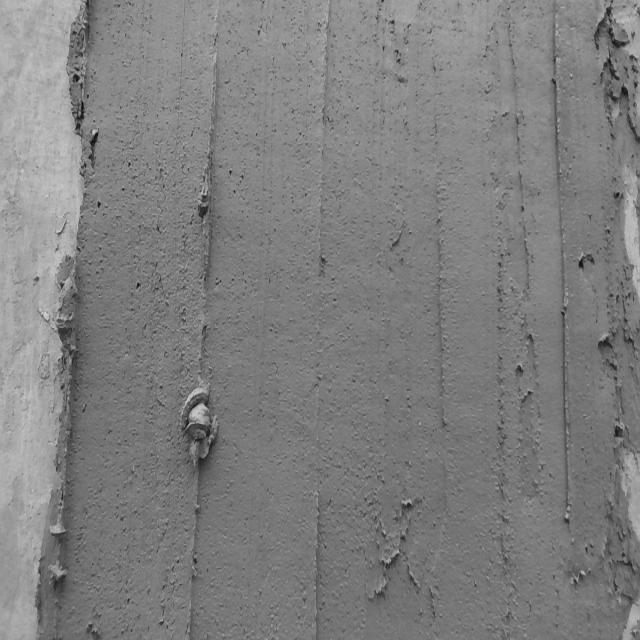trowels marks: (177, 20, 225, 640), (479, 10, 516, 640), (544, 12, 584, 554), (507, 4, 548, 505), (426, 41, 454, 640), (307, 0, 333, 640)
